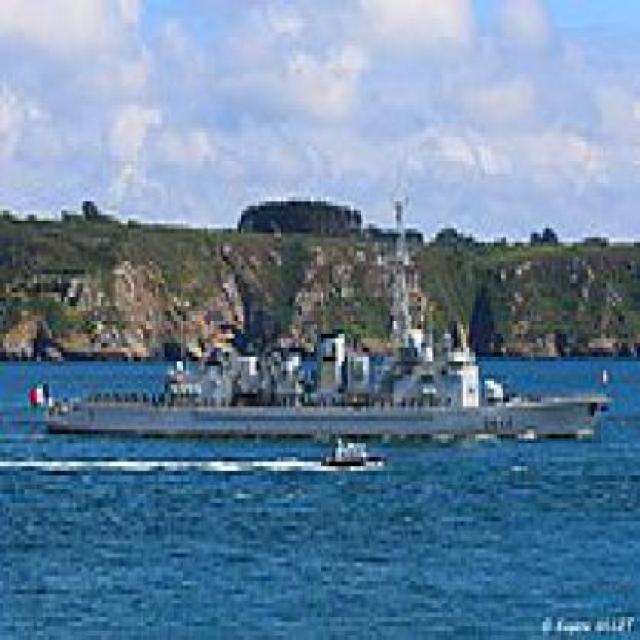warship2: (25, 188, 617, 449)
